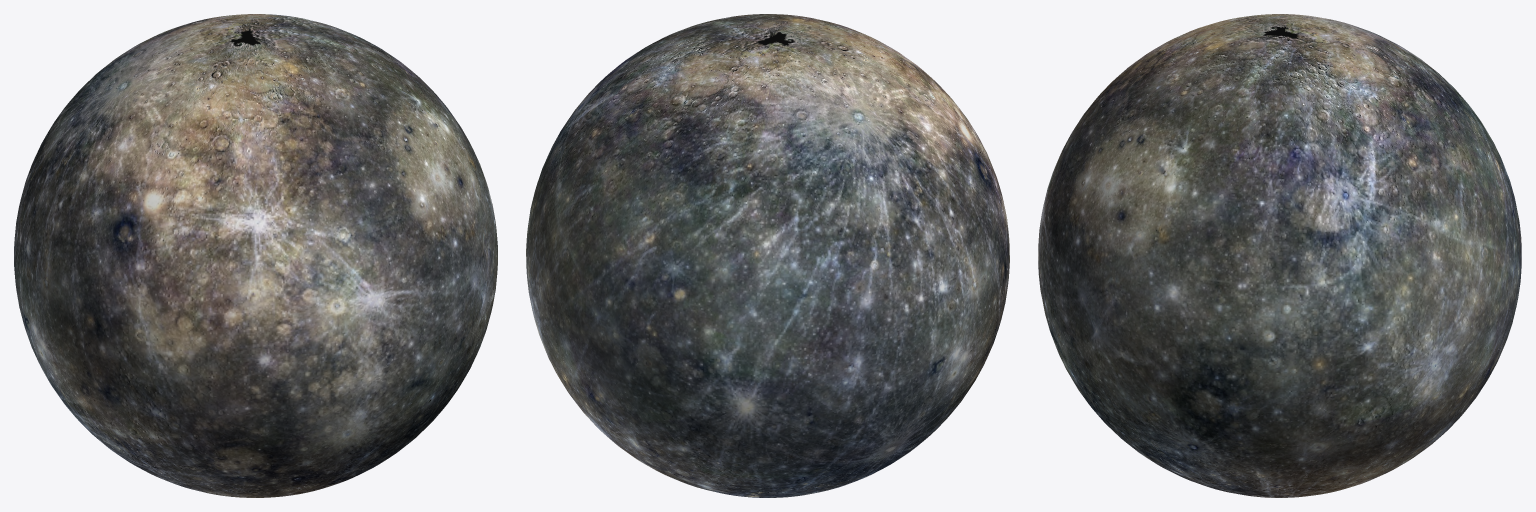
The model's file is Mercury.gltf.
3 renders of one model, left to right at view 1: azimuth 30°, elevation 25°; view 2: azimuth 150°, elevation 25°; view 3: azimuth 270°, elevation 25°, orthographic.
Visible parts, largest first — view 1: Mercury; view 2: Mercury; view 3: Mercury.
Part boxes in pixels (left/top/right/bottom): Mercury: left=14, top=14, right=497, bottom=497; Mercury: left=526, top=14, right=1009, bottom=497; Mercury: left=1038, top=14, right=1521, bottom=497.
Bounding box in the file's own units: 0.0749 × 0.075 × 0.0749.
1 material, 1 textured.
